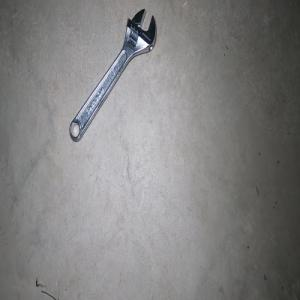Wrench: (69, 8, 155, 141)
